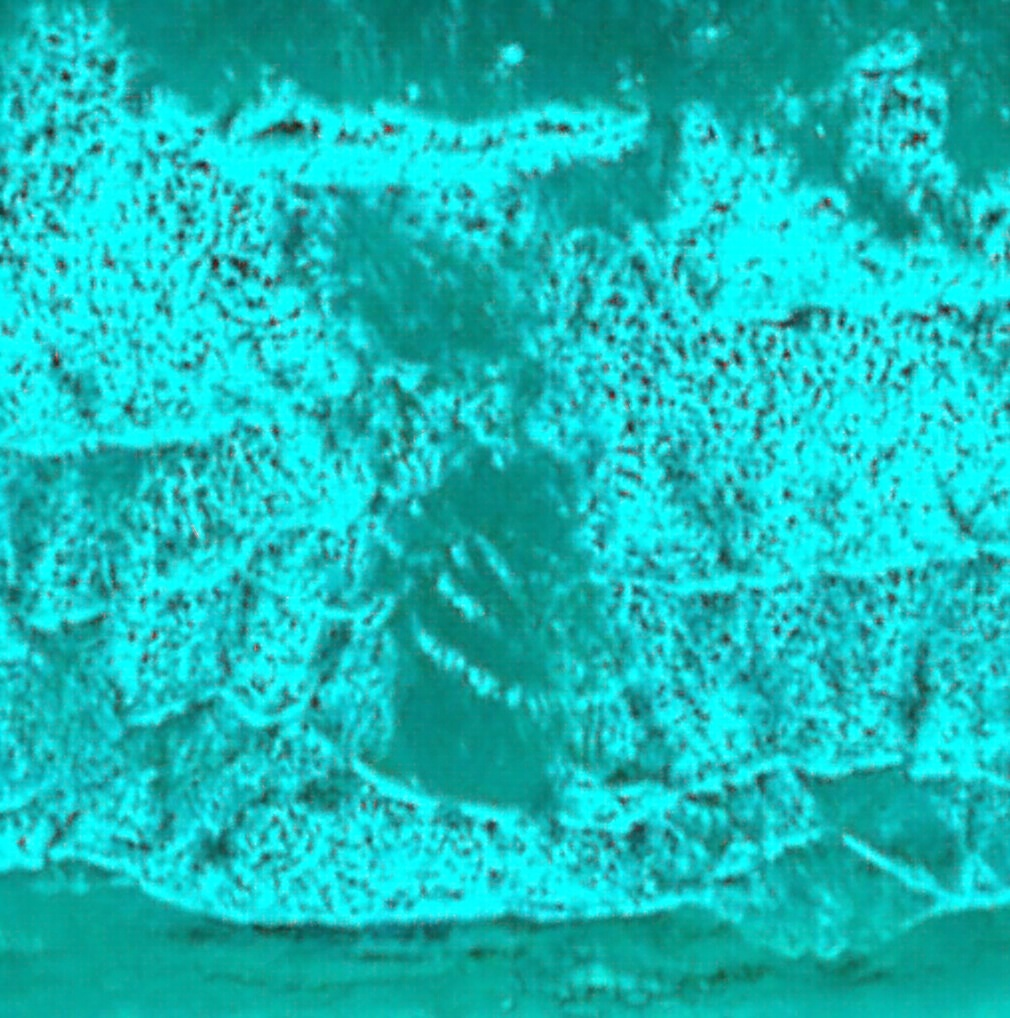rip_current: (261, 135, 733, 838)
